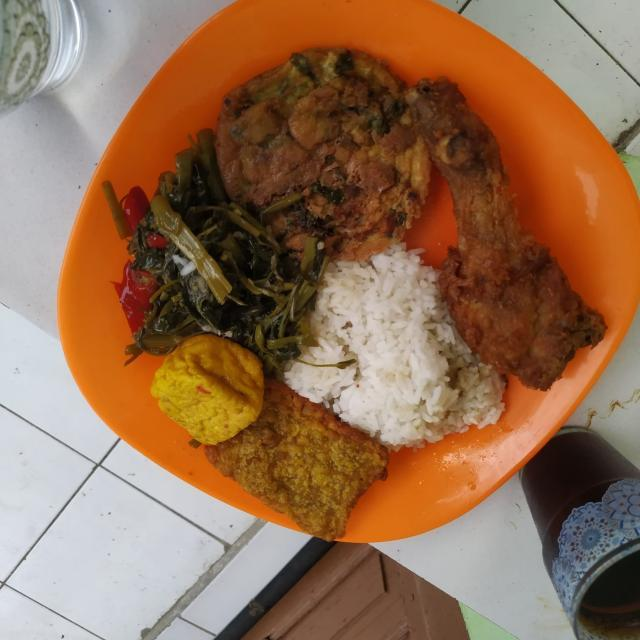ayam_goreng: (408, 58, 593, 408)
nasi_putih: (280, 275, 477, 447)
